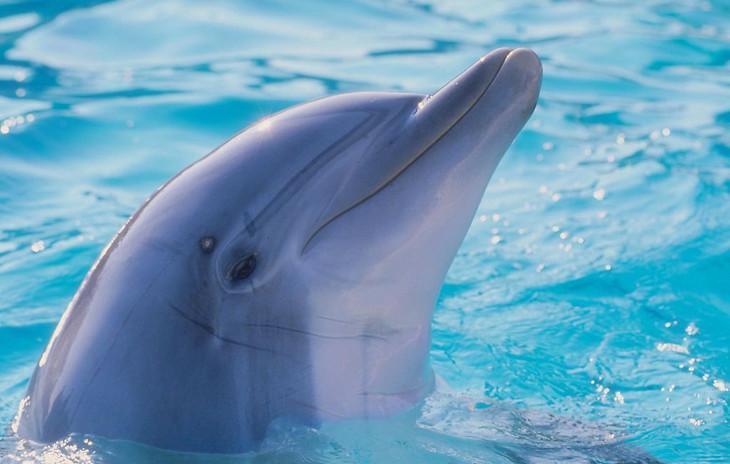fish: (1, 45, 551, 460)
